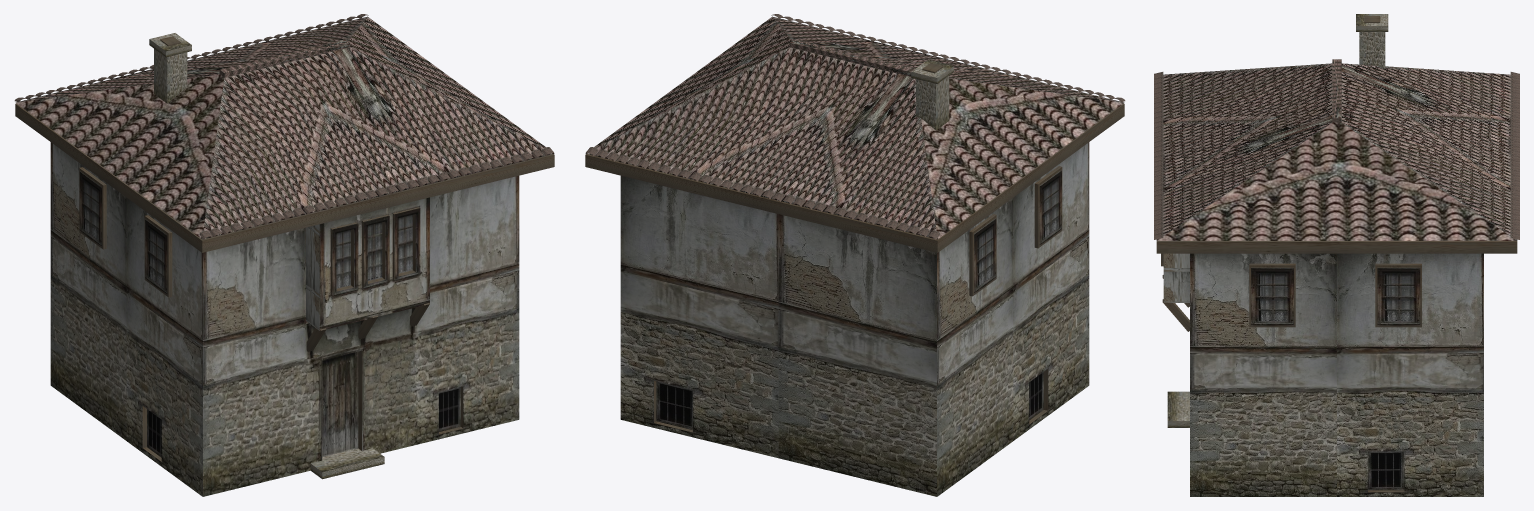
Rendered from cumba.glb.
The picture shows the model from 3 angles, left to right: view 1: azimuth 30°, elevation 25°; view 2: azimuth 150°, elevation 25°; view 3: azimuth 270°, elevation 25°; orthographic projection. The views are drawn at different scales.
Visible parts, largest first — view 1: cumba; view 2: cumba; view 3: cumba.
Boxes of the visible parts, bbox=[...] form: cumba: bbox=[14, 14, 554, 496]; cumba: bbox=[585, 14, 1125, 496]; cumba: bbox=[1154, 14, 1519, 496].
Size of the model in its own units: 6.68 by 6.73 by 6.23.
Materials: 1 (1 with a texture image).
